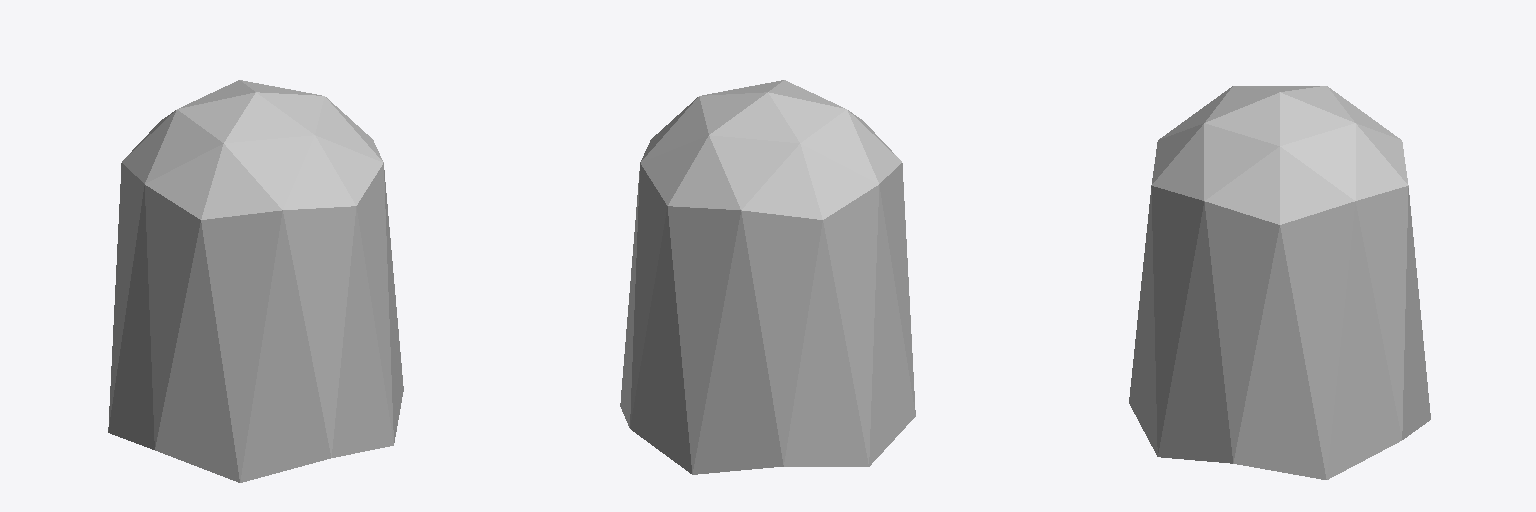
File: slime.obj
The picture shows the model from 3 angles: view 1: azimuth 30°, elevation 25°; view 2: azimuth 150°, elevation 25°; view 3: azimuth 270°, elevation 25°; orthographic projection.
Parts seen in each view (by area): view 1: ICO球; view 2: ICO球; view 3: ICO球.
Boxes of the visible parts, box(x1,y1,x2,y2) form: ICO球: box(108, 80, 403, 482); ICO球: box(620, 80, 915, 474); ICO球: box(1129, 86, 1430, 479).
Size of the model in its own units: 1.9 by 2.39 by 2.